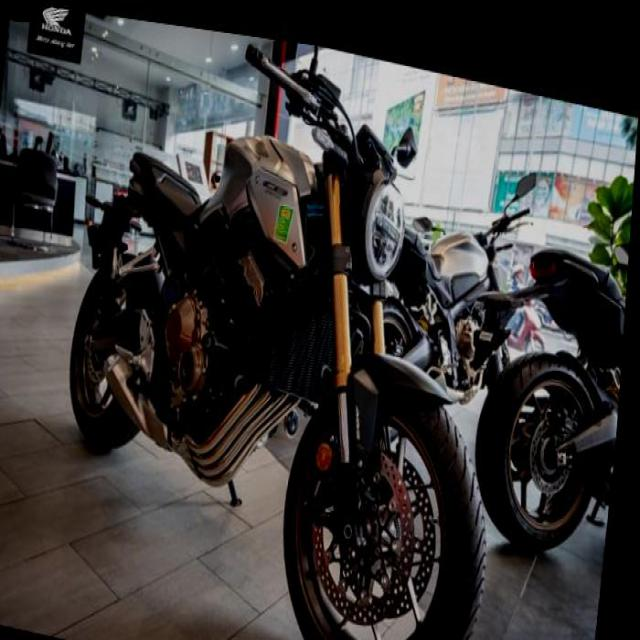CB650R: (49, 63, 532, 639)
